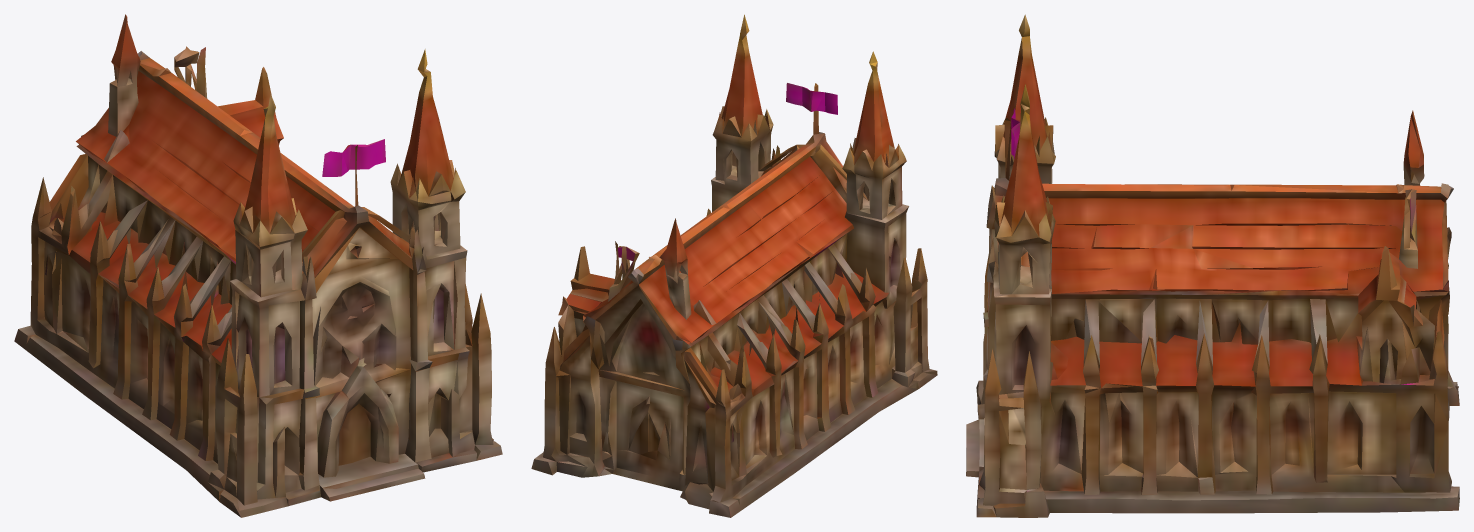
File: chapel3.lod2.glb
The picture shows the model from 3 angles, left to right: view 1: azimuth 30°, elevation 25°; view 2: azimuth 150°, elevation 25°; view 3: azimuth 270°, elevation 25°; orthographic projection. The views are drawn at different scales.
Parts seen in each view (by area): view 1: chapel3.lod2_uv; view 2: chapel3.lod2_uv; view 3: chapel3.lod2_uv.
Boxes of the visible parts, x1,y1,x2,y2 form: chapel3.lod2_uv: [14, 14, 502, 517]; chapel3.lod2_uv: [531, 14, 937, 517]; chapel3.lod2_uv: [966, 14, 1459, 517].
Size of the model in its own units: 1.19 by 1.73 by 1.9.
Materials: 1 (1 with a texture image).
